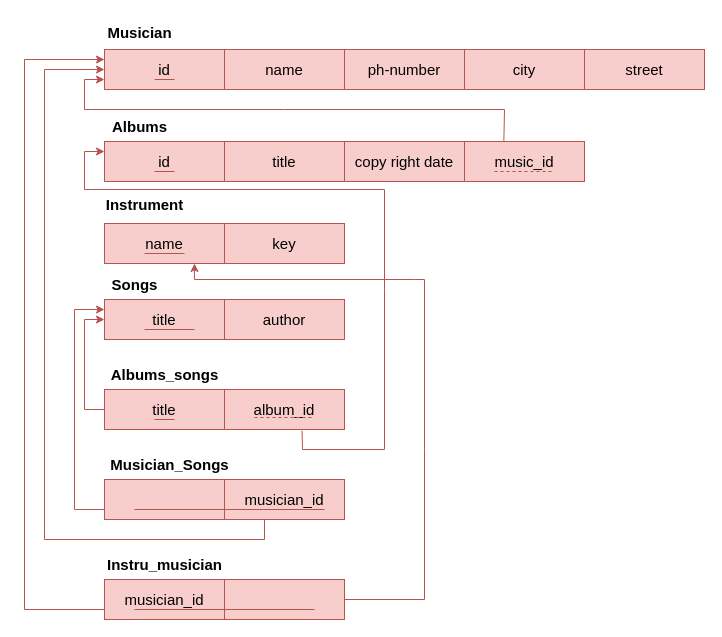
Image size: 722x637. Some labels were removed from this diagram. Each missing label, with the centre of its shape:
"instu_name" goes at point (284, 599).
"title_song" goes at point (164, 499).
